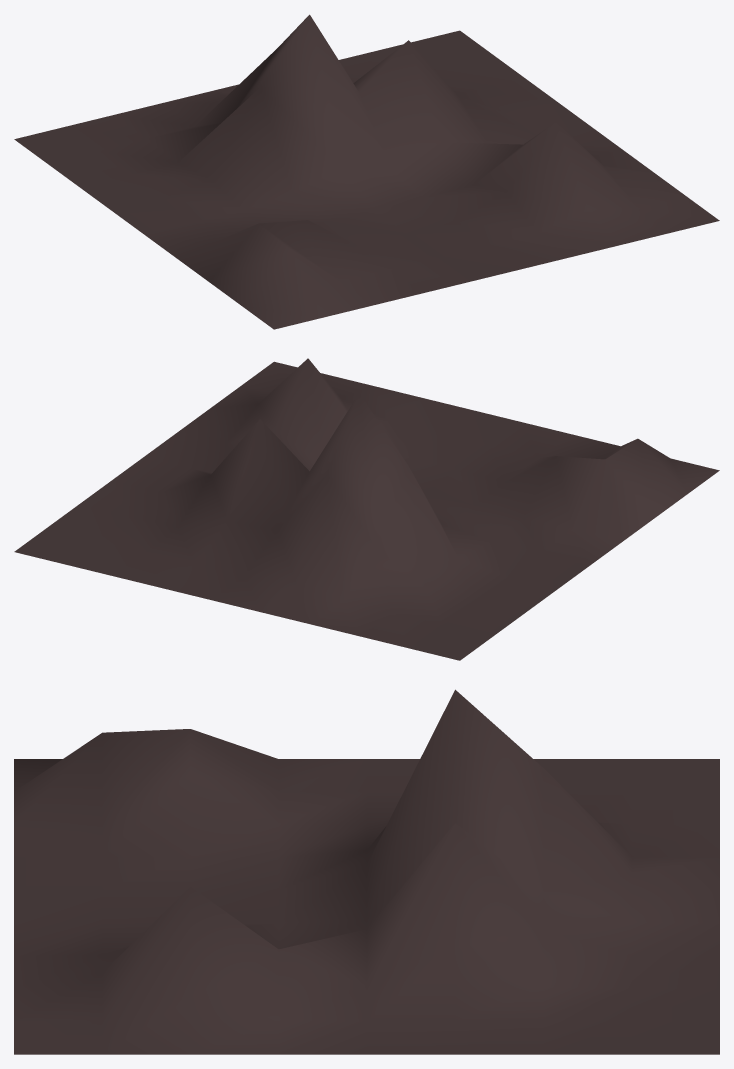
Rendered from mountain.FBX.
3 renders of one model, top to bottom at view 1: azimuth 30°, elevation 25°; view 2: azimuth 150°, elevation 25°; view 3: azimuth 270°, elevation 25°, orthographic. The views are drawn at different scales.
Visible parts, largest first — view 1: Plane01; view 2: Plane01; view 3: Plane01.
Part boxes in pixels (x1,y1,x2,y2): Plane01: [14, 14, 719, 329]; Plane01: [14, 358, 719, 660]; Plane01: [14, 689, 719, 1054].
Size of the model in its own units: 138 by 139 by 43.62.
Materials: 1 (1 with a texture image).
